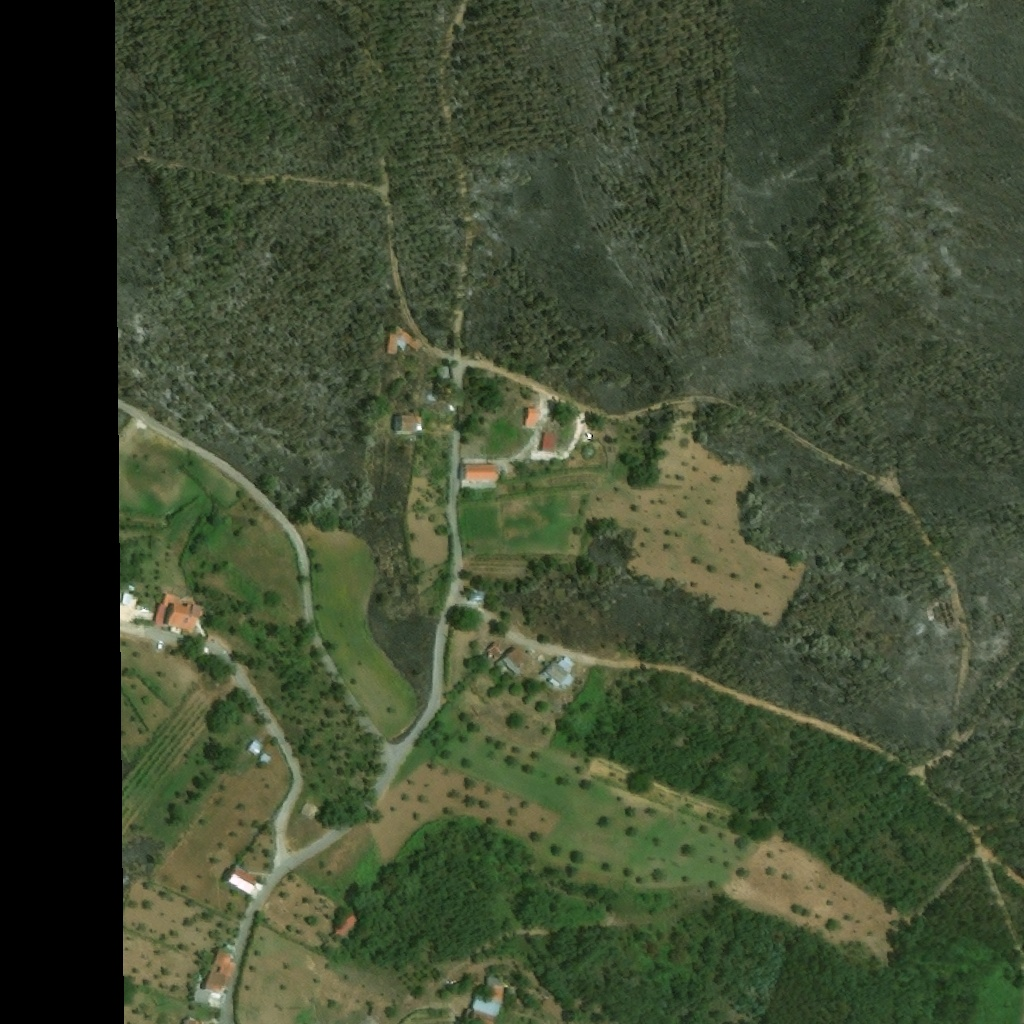0 no-damage: (152, 588, 206, 642), (458, 455, 512, 490), (201, 952, 238, 995), (540, 654, 576, 694), (473, 977, 507, 1017), (387, 321, 423, 357), (495, 645, 531, 679), (245, 739, 274, 770), (223, 867, 255, 895), (390, 414, 425, 436), (330, 916, 358, 941), (539, 434, 560, 456), (486, 641, 506, 662), (523, 408, 541, 428), (438, 364, 453, 380)
4 un-classified: (300, 800, 320, 820), (127, 594, 134, 608)
